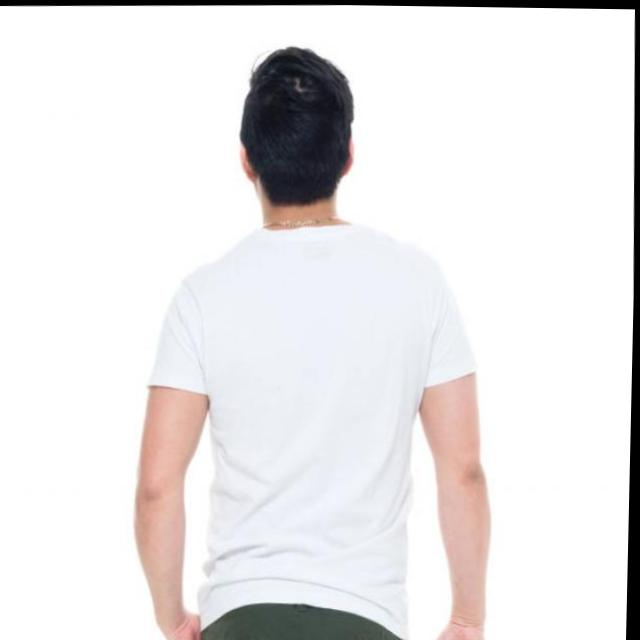no helmet: (235, 47, 356, 215)
